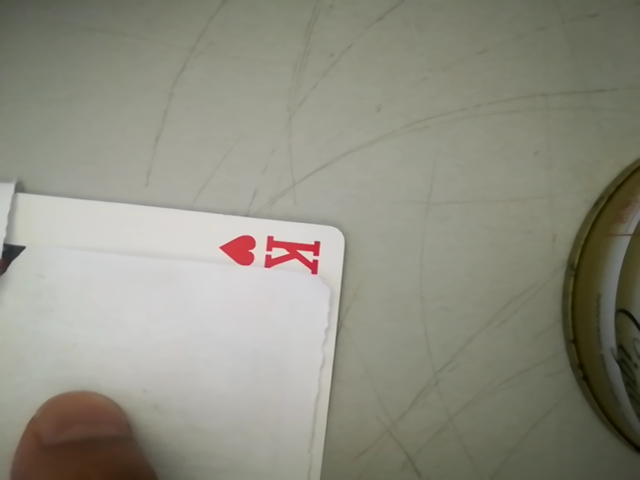hx k: (213, 227, 341, 281)
